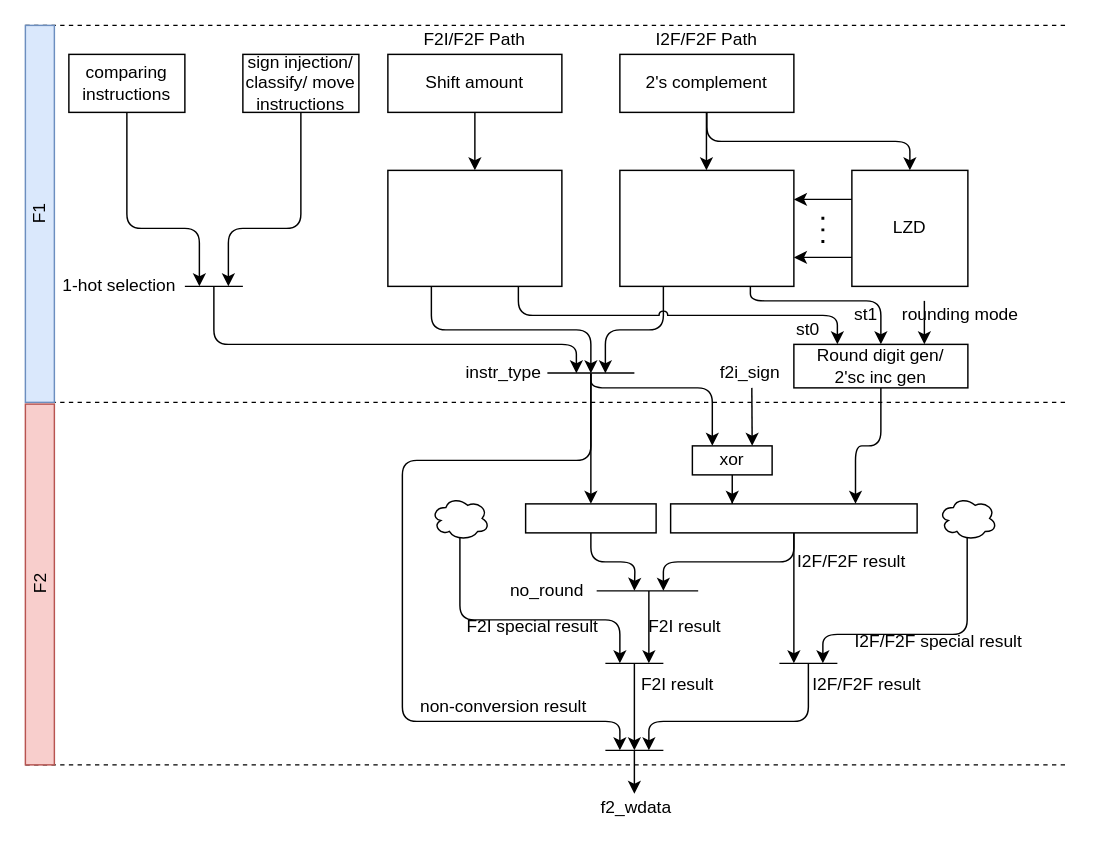
Image size: 1096x848. Some labels were removed from this diagram. Here are the shapes that lost their labels. From the top down, the centre of each, then its label:
At pixel 474 227: "Alignment (Right shifter)".
At pixel 706 227: "Normaliztaion (Left shifter)".
At pixel 590 517: "64-bit 2'sc".
At pixel 793 517: "54-bit adder with 2'sc handling".
